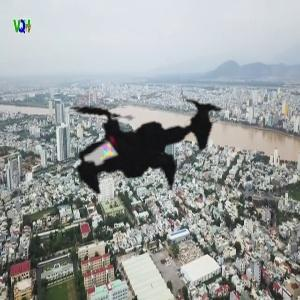drone: (26, 16, 261, 251)
